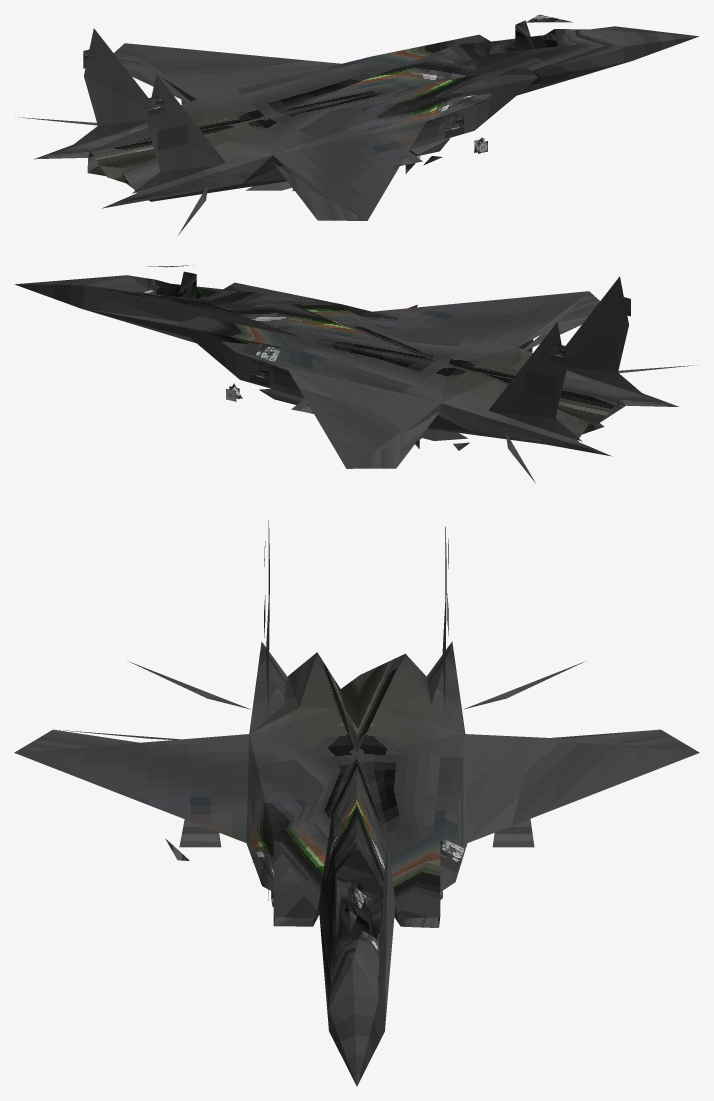
3 views of the same model, one above another, from view 1: azimuth 30°, elevation 25°; view 2: azimuth 150°, elevation 25°; view 3: azimuth 270°, elevation 25° (orthographic). The views are drawn at different scales.
Parts seen in each view (by area): view 1: TomGroup_7_mtl_f15_glass_0; view 2: TomGroup_7_mtl_f15_glass_0; view 3: TomGroup_7_mtl_f15_glass_0.
Part boxes in pixels (left/top/right/bottom): TomGroup_7_mtl_f15_glass_0: left=15, top=14, right=699, bottom=235; TomGroup_7_mtl_f15_glass_0: left=14, top=265, right=697, bottom=483; TomGroup_7_mtl_f15_glass_0: left=14, top=520, right=699, bottom=1086.
Size of the model in its own units: 1921 by 557 by 1277.
1 material, 1 textured.
